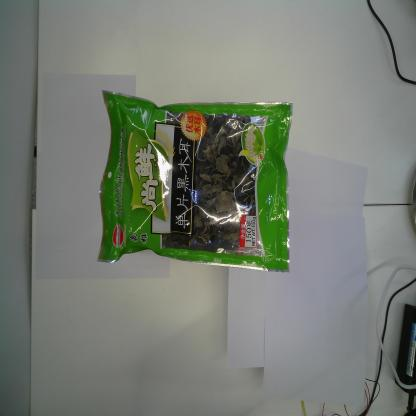Dried Food: (95, 87, 294, 277)
